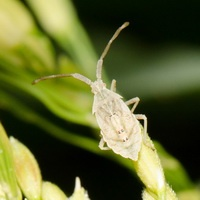insect: (32, 22, 141, 160)
